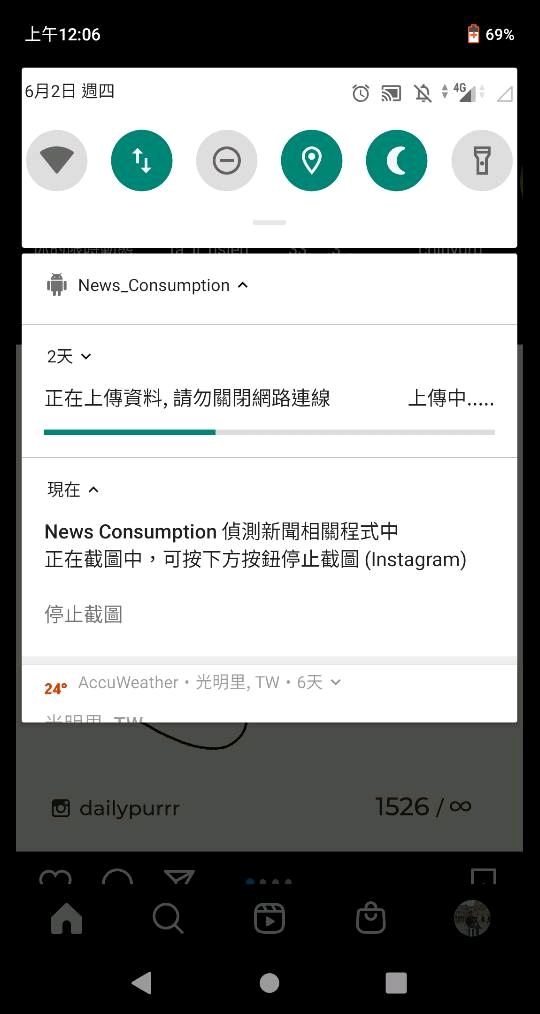icon_nav: (39, 893, 196, 942)
